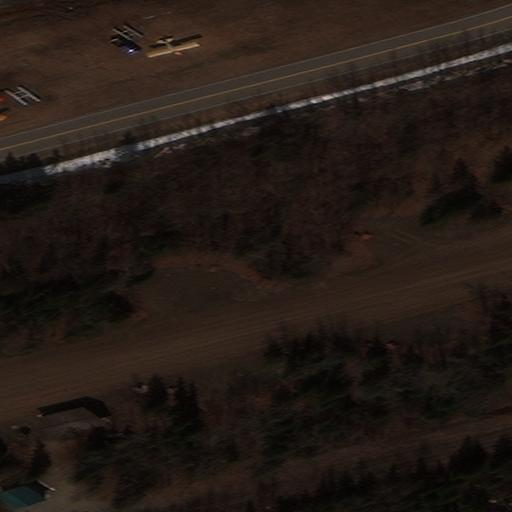Small Civil Transport: (147, 37, 200, 58)
